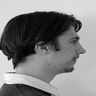ear: (32, 34, 53, 59)
